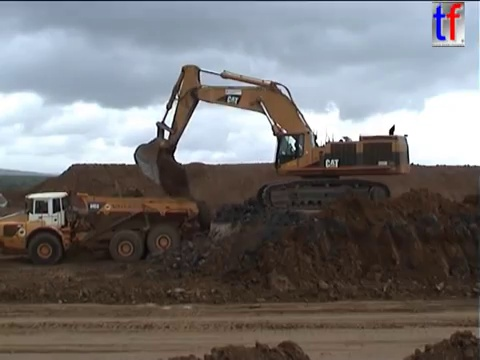excavator: (131, 62, 412, 216)
truck: (1, 189, 201, 267)
